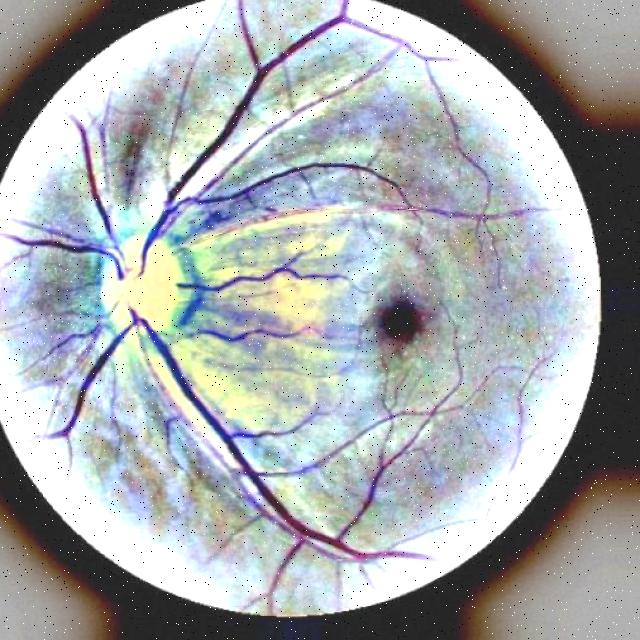Macula: (368, 290, 429, 353)
Nerves: (47, 19, 427, 601)
Optic Disk: (69, 217, 233, 365)
